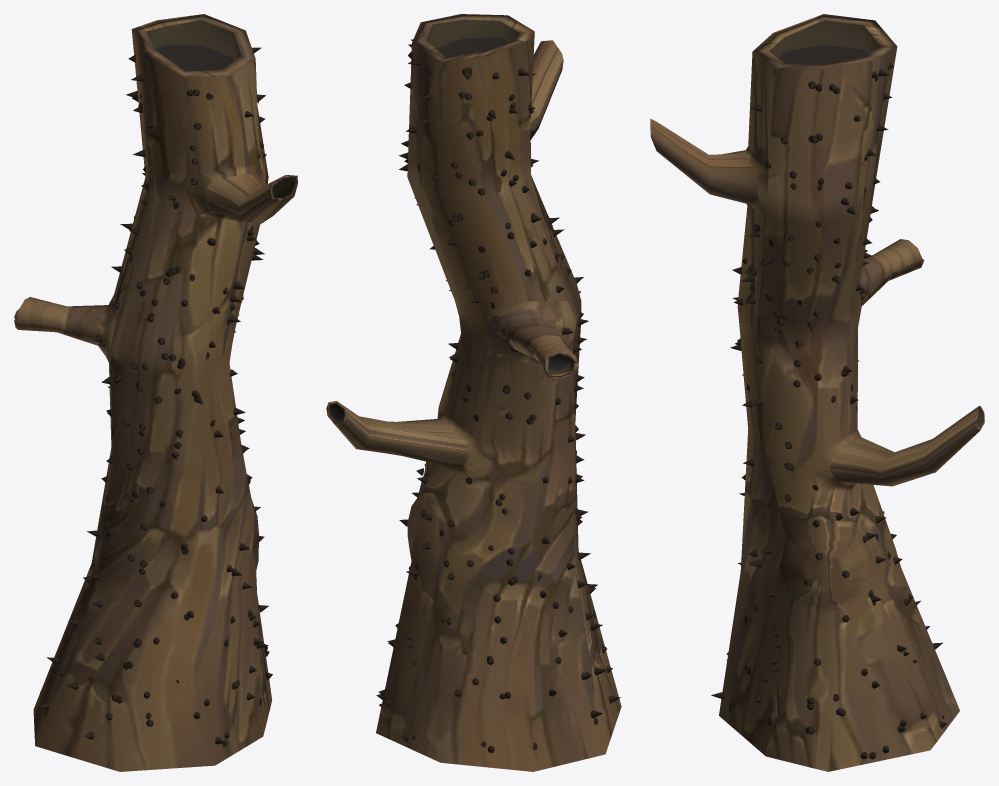
The model's file is Tronco D.fbx.
3 views of the same model, side by side, from view 1: azimuth 30°, elevation 25°; view 2: azimuth 150°, elevation 25°; view 3: azimuth 270°, elevation 25° (orthographic).
Visible parts, largest first — view 1: pCylinder2; view 2: pCylinder2; view 3: pCylinder2.
Part boxes in pixels (x1,y1,x2,y2): pCylinder2: (14, 14, 297, 771); pCylinder2: (326, 14, 621, 771); pCylinder2: (650, 14, 984, 771).
Bounding box in the file's own units: 3.78 × 10.99 × 4.78.
